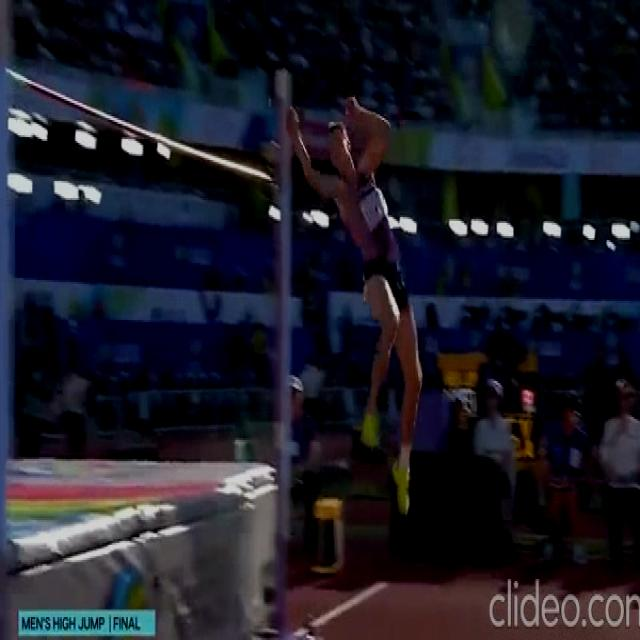jump: (283, 88, 422, 516)
